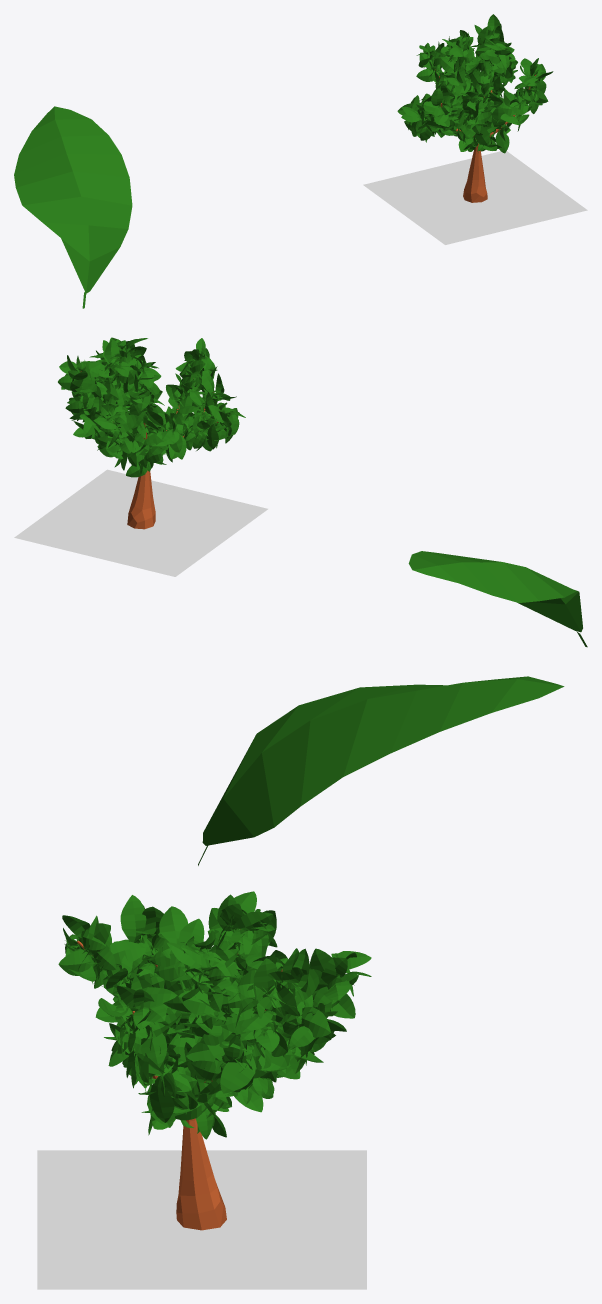
Rendered from tree.glb.
3 renders of one model, top to bottom at view 1: azimuth 30°, elevation 25°; view 2: azimuth 150°, elevation 25°; view 3: azimuth 270°, elevation 25°, orthographic. The views are drawn at different scales.
Visible parts, largest first — view 1: Plane.002, Plane.003, Plane; view 2: Plane.003, Plane.002, Plane; view 3: Plane.003, Plane.002 (×3), Plane.
Part boxes in pixels (box(x1,y1,x2,y2)): Plane.002: box(14, 106, 132, 308); Plane.003: box(363, 151, 587, 244); Plane: box(435, 69, 535, 202); Plane.003: box(14, 469, 267, 576); Plane.002: box(408, 551, 587, 647); Plane: box(80, 371, 218, 529); Plane.003: box(37, 1150, 366, 1289); Plane.002 (×3): box(120, 676, 564, 1093); Plane: box(77, 929, 282, 1230).
Size of the model in its own units: 14.79 by 5.1 by 6.96.
